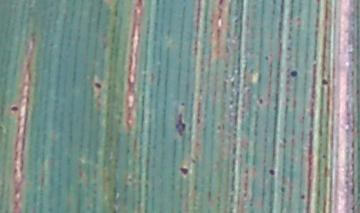tarspot: (174, 109, 185, 138), (178, 166, 190, 178), (232, 13, 242, 26), (8, 104, 20, 114), (288, 69, 298, 79), (267, 166, 276, 176), (93, 81, 103, 90), (320, 77, 329, 86), (135, 1, 144, 9), (256, 97, 264, 105), (263, 54, 270, 63), (299, 191, 305, 201), (179, 99, 186, 107), (355, 86, 360, 96), (215, 125, 222, 132), (279, 185, 285, 193), (216, 1, 224, 7), (320, 153, 327, 159)
